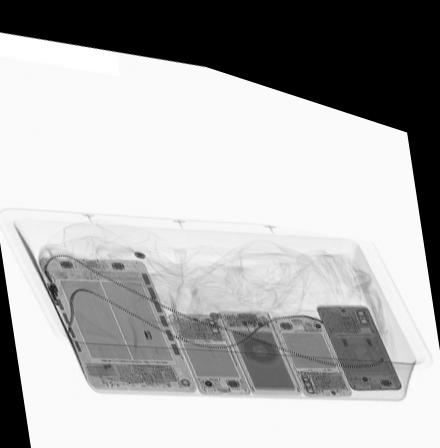Powerbank: (218, 293, 302, 381)
